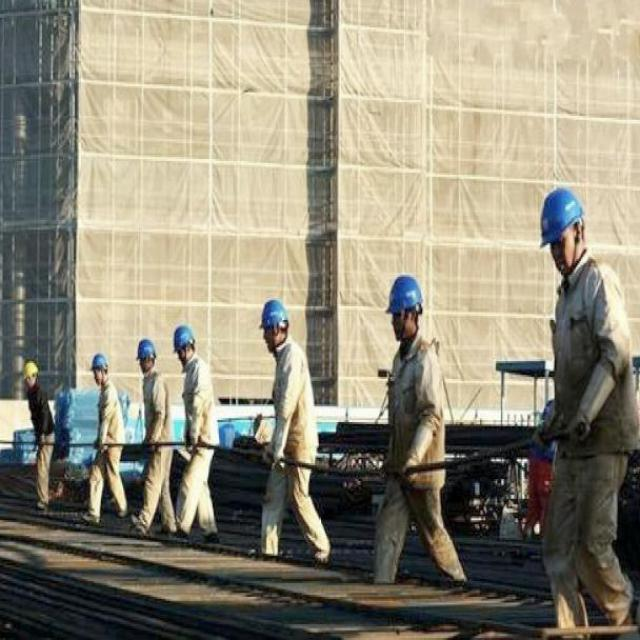gloves: (555, 363, 619, 456), (405, 422, 434, 493), (264, 413, 287, 467), (93, 412, 111, 452)
helmet: (529, 196, 598, 291), (368, 267, 426, 337), (245, 288, 292, 336), (14, 343, 50, 393), (122, 322, 155, 373), (165, 316, 199, 363), (84, 345, 109, 383)
